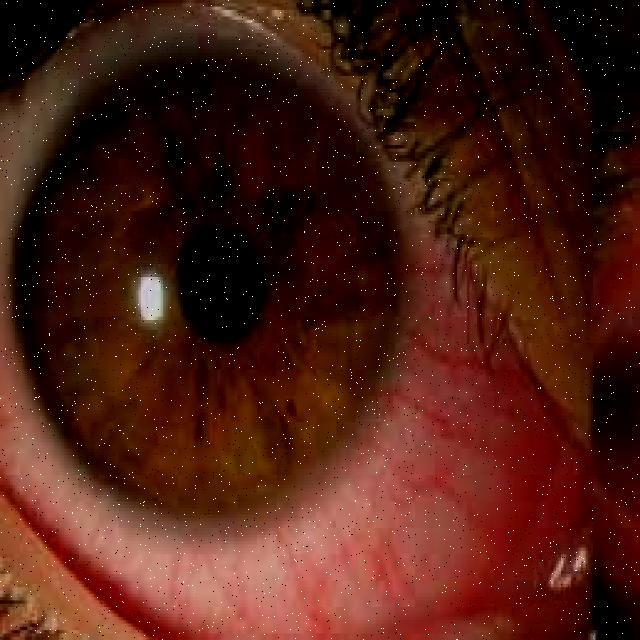Conjunctivitis: (0, 256, 624, 640)
